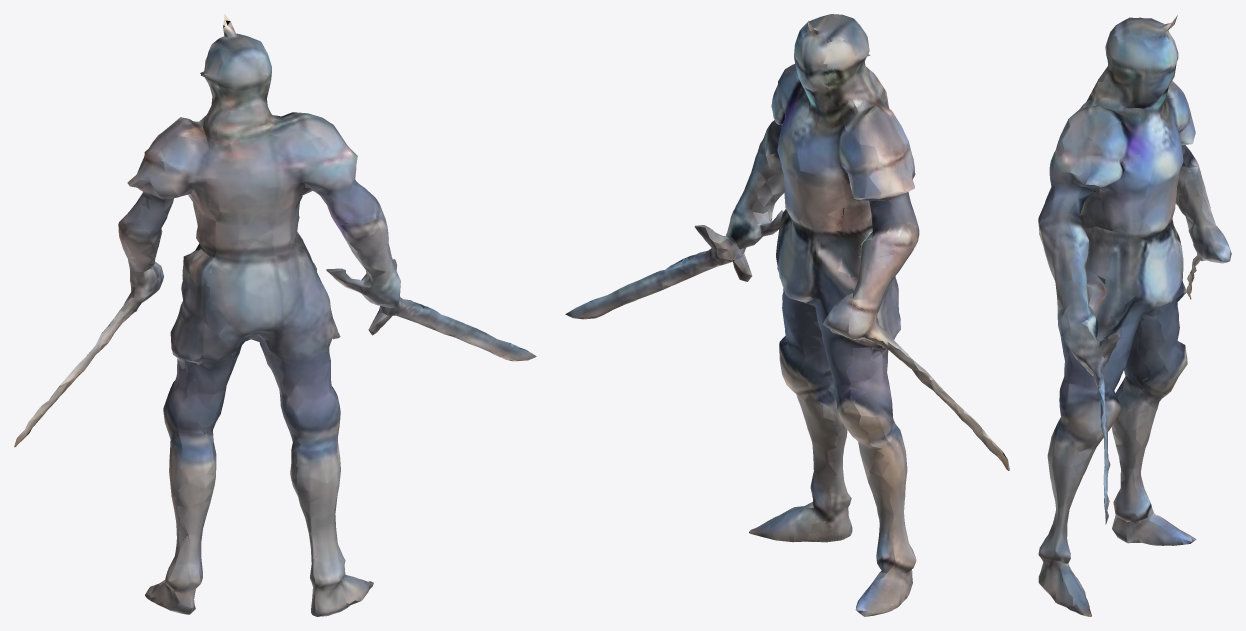
3 views of the same model, side by side, from view 1: azimuth 30°, elevation 25°; view 2: azimuth 150°, elevation 25°; view 3: azimuth 270°, elevation 25° (orthographic). The views are drawn at different scales.
Parts seen in each view (by area): view 1: world; view 2: world; view 3: world.
Part boxes in pixels (<box>): world: <box>14,14,536,616</box>; world: <box>565,14,1009,616</box>; world: <box>1038,15,1231,616</box>.
Size of the model in its own units: 0.8123 by 0.9144 by 0.2873.
1 material, 1 textured.
